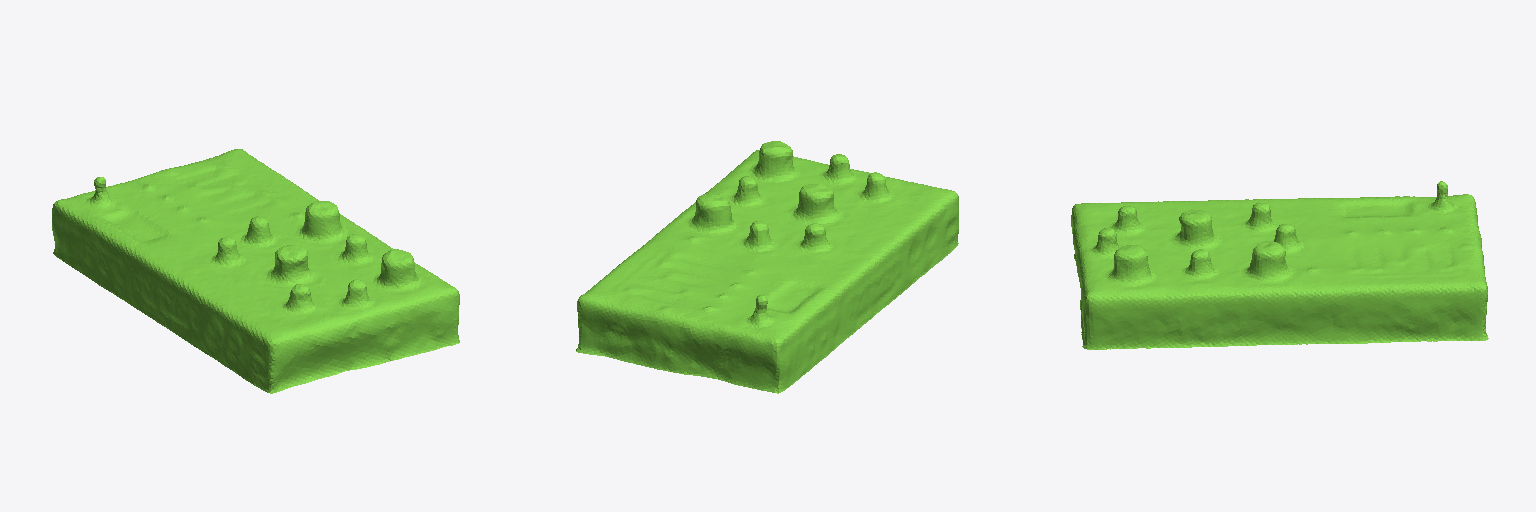
Rendered from synthesizer.obj.
3 renders of one model, left to right at view 1: azimuth 30°, elevation 25°; view 2: azimuth 150°, elevation 25°; view 3: azimuth 270°, elevation 25°, orthographic.
Visible parts, largest first — view 1: object 1; view 2: object 1; view 3: object 1.
Part boxes in pixels (x1,y1,x2,y2): object 1: (52,149,459,393); object 1: (576,141,958,393); object 1: (1071,181,1488,349).
Size of the model in its own units: 13.92 by 4.99 by 23.01.